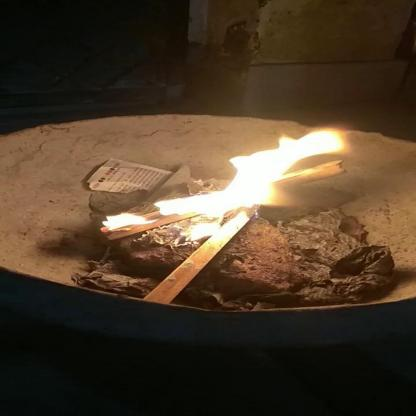fire: (93, 127, 362, 240)
